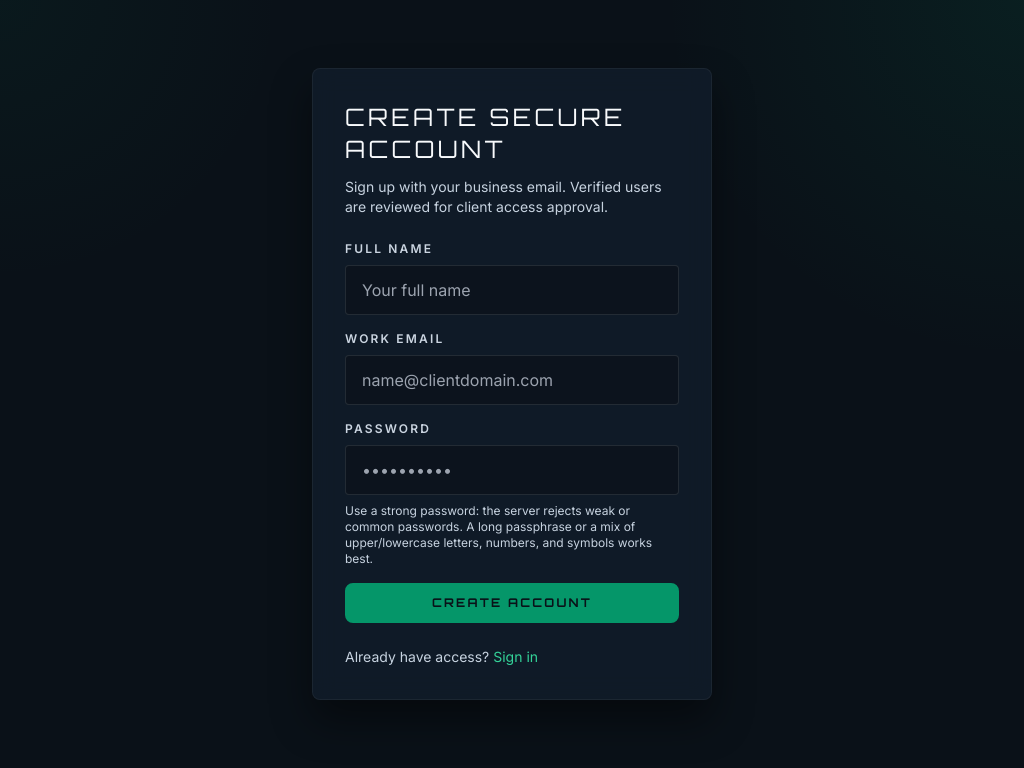
Test: SignupPage › shows success message on successful signup
The image size is (1024, 768).
Type "Alice" into the field with placeholder "Your full name" at (512,290), box [345,265,679,315]
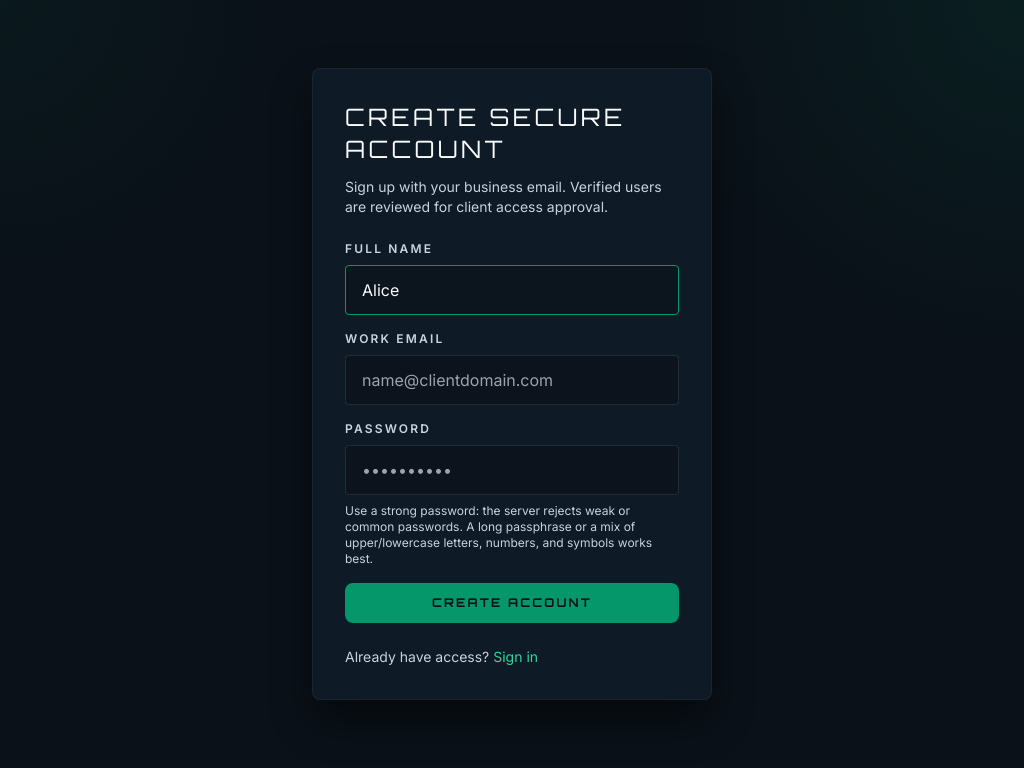
Type "a@b.com" into the field with placeholder "name@clientdomain.com" at (512,380), box [345,355,679,405]
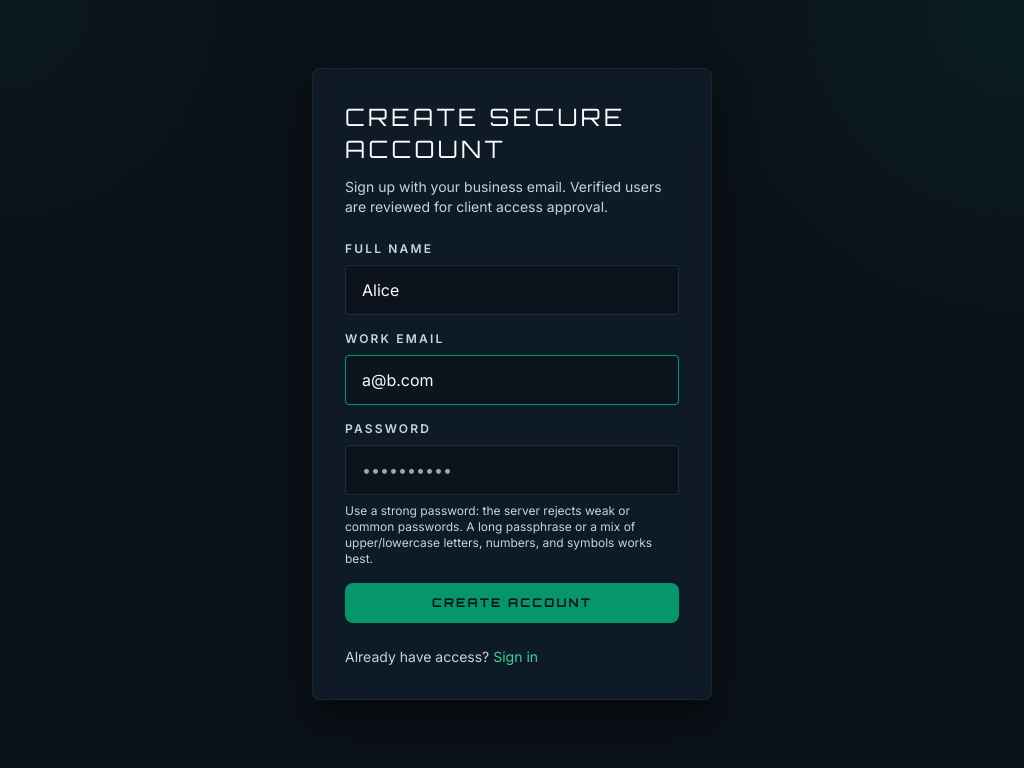
Type "password" into the password field with placeholder "••••••••••" at (512,470), box [345,445,679,495]
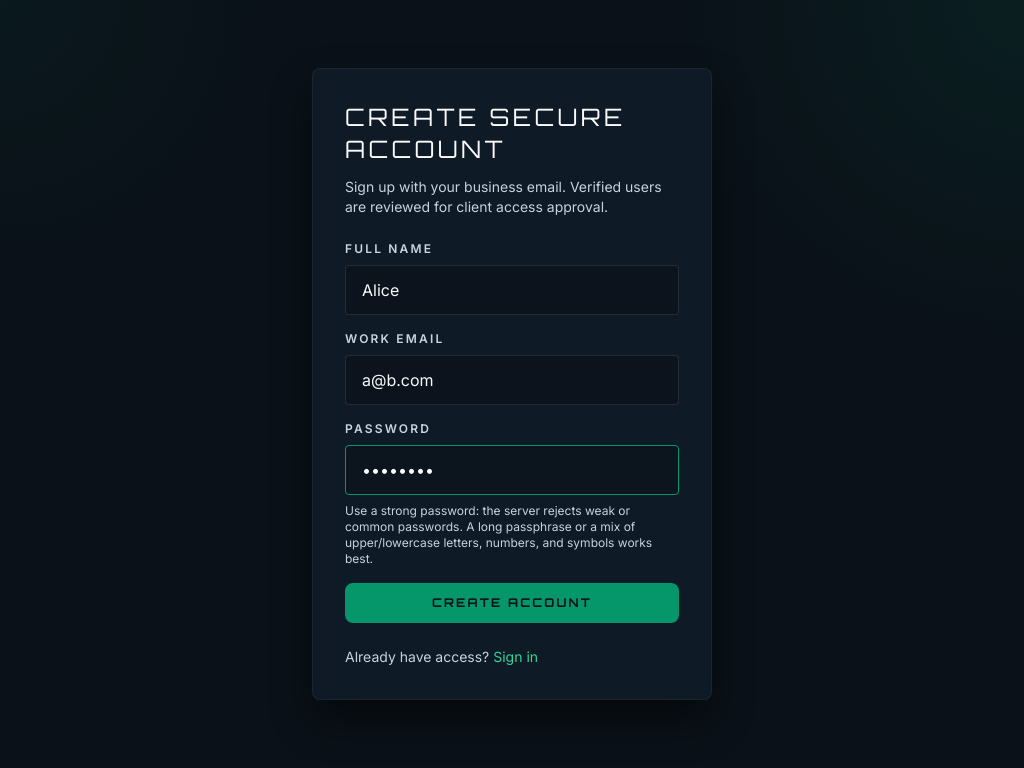
Click the button "Create Account" at (512,603), box [345,583,679,623]
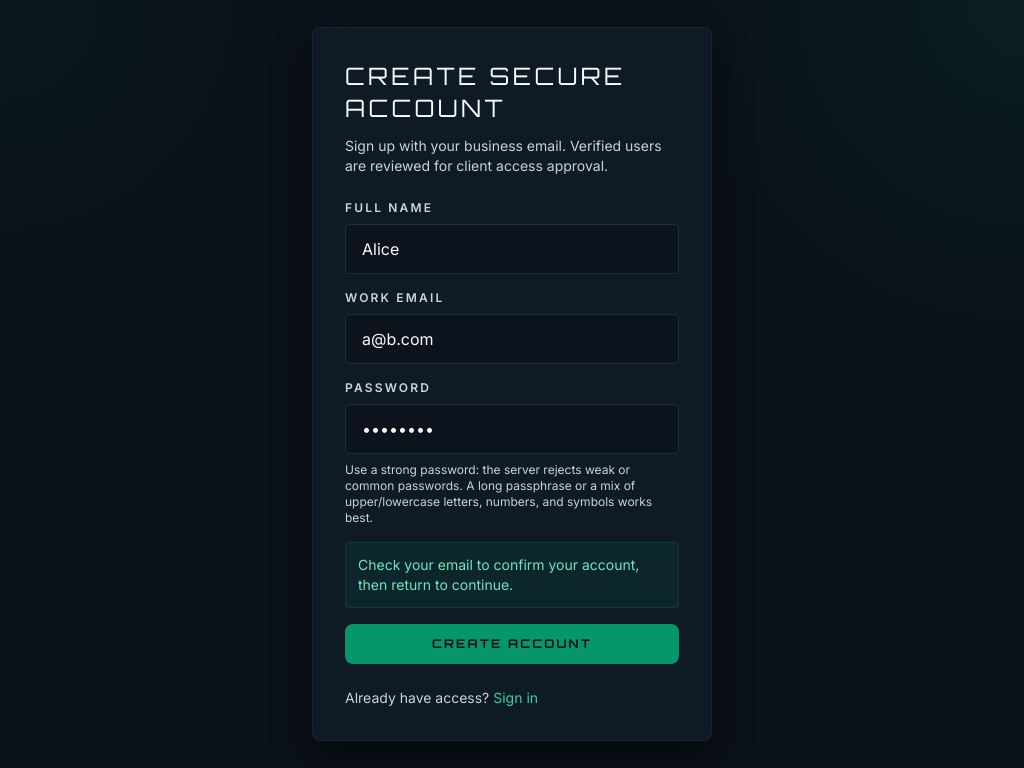
expect the text "Check your email to confirm your account, then return to continue." is shown: met, box [345,542,679,608]
